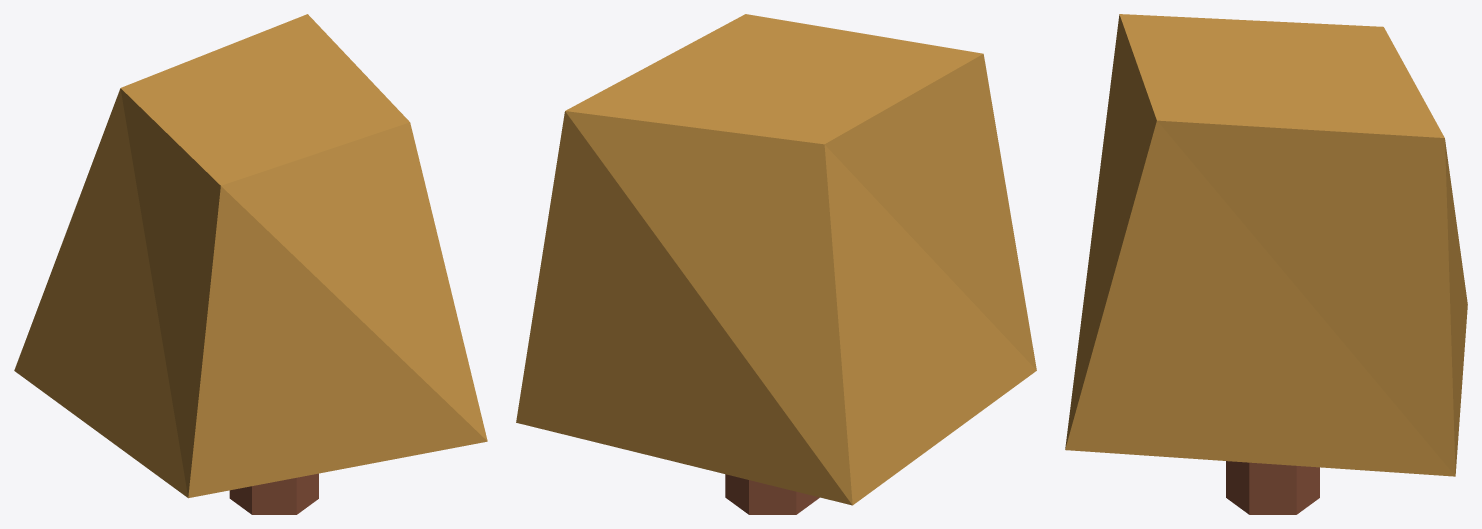
File: Bush_11_autumn.fbx
3 views of the same model, side by side, from view 1: azimuth 30°, elevation 25°; view 2: azimuth 150°, elevation 25°; view 3: azimuth 270°, elevation 25° (orthographic). The views are drawn at different scales.
Visible parts, largest first — view 1: Bush_11_autumn; view 2: Bush_11_autumn; view 3: Bush_11_autumn.
Boxes of the visible parts, bbox=[...] form: Bush_11_autumn: bbox=[14, 14, 487, 514]; Bush_11_autumn: bbox=[516, 14, 1036, 514]; Bush_11_autumn: bbox=[1065, 14, 1467, 514].
Size of the model in its own units: 50.88 by 59.59 by 51.95.
